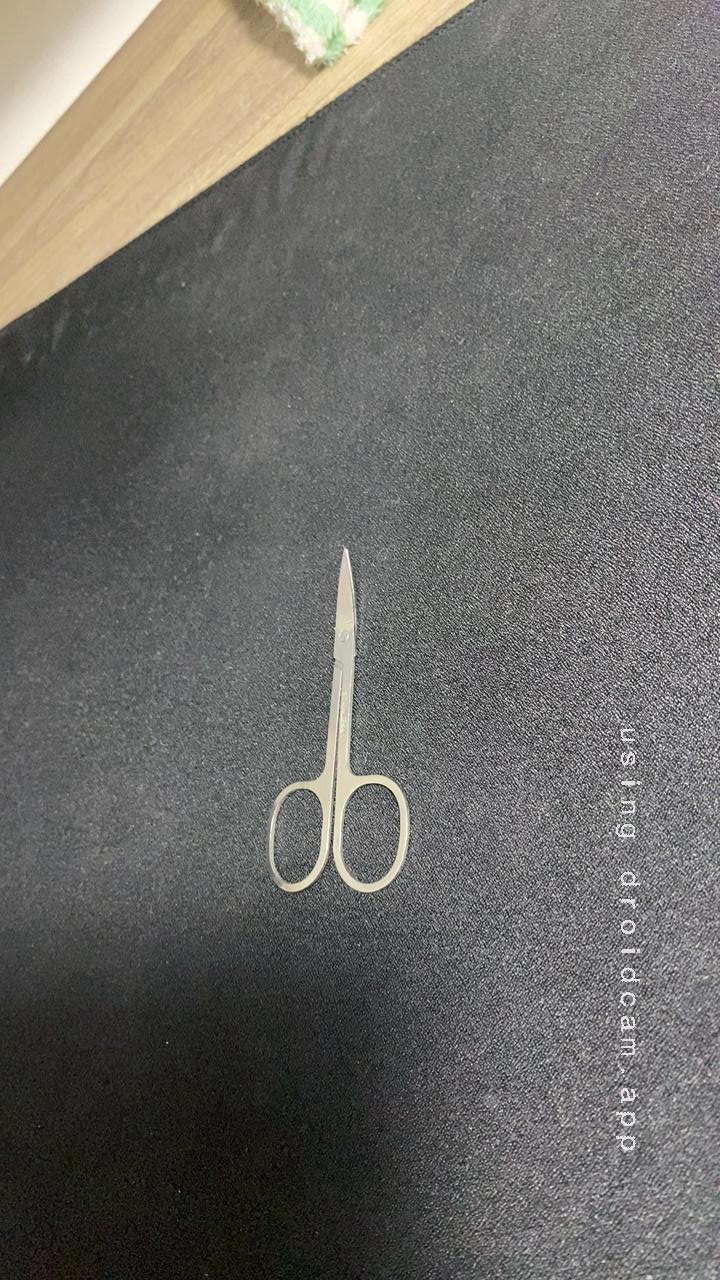scissor: (234, 548, 433, 915)
